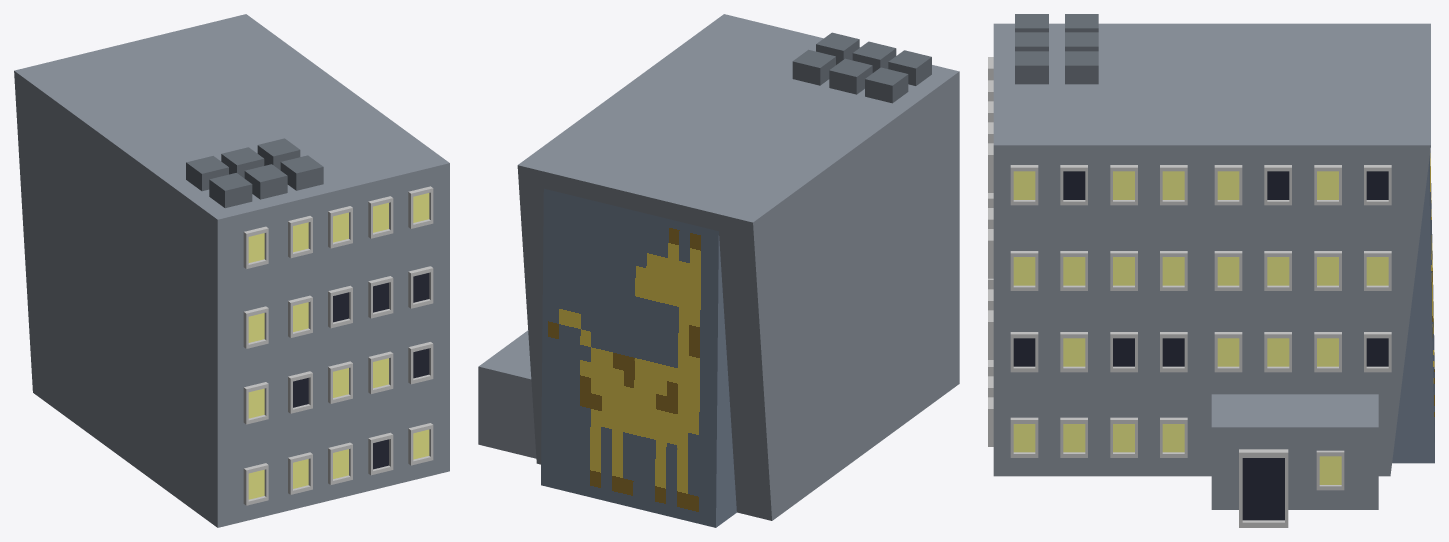
The model's file is Building2.fbx.
3 views of the same model, side by side, from view 1: azimuth 30°, elevation 25°; view 2: azimuth 150°, elevation 25°; view 3: azimuth 270°, elevation 25° (orthographic). The views are drawn at different scales.
Visible parts, largest first — view 1: Cube.003; view 2: Cube.003; view 3: Cube.003.
Part boxes in pixels (x1=…): Cube.003: x1=14, y1=14, x2=449, y2=527; Cube.003: x1=478, y1=14, x2=959, y2=527; Cube.003: x1=988, y1=14, x2=1434, y2=527.
Bounding box in the file's own units: 4513 × 3773 × 4070.
